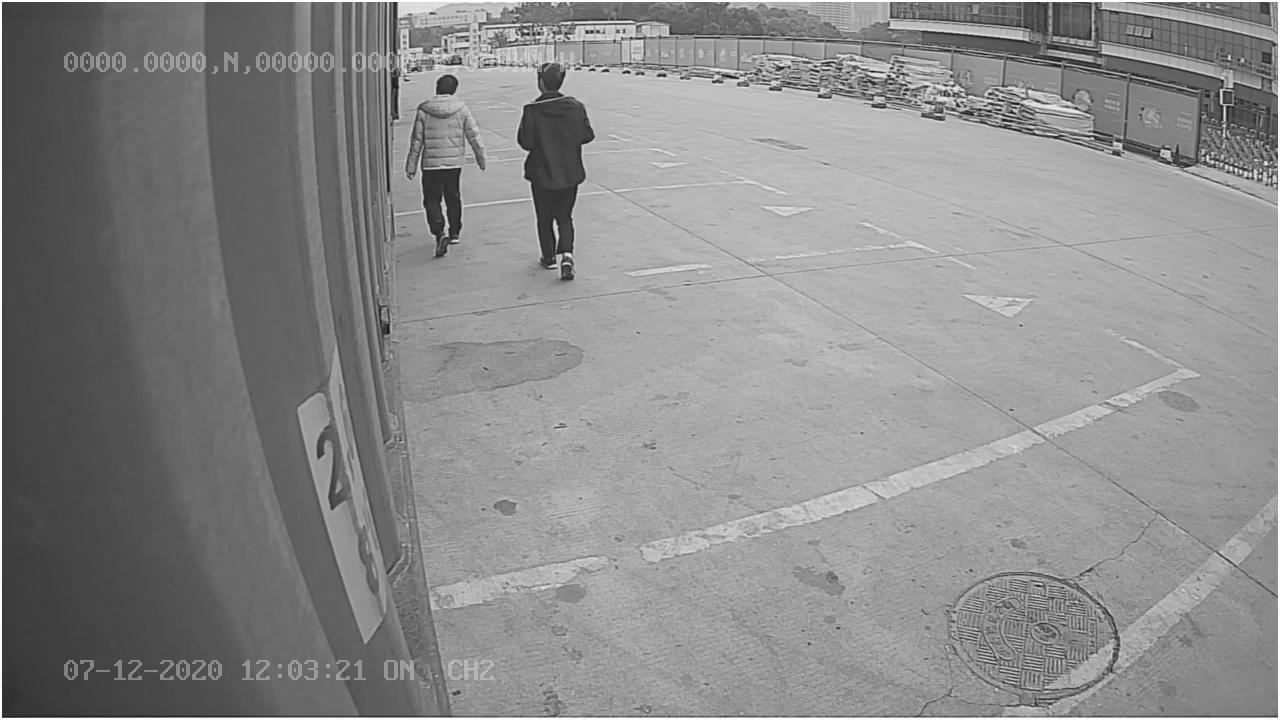person: (516, 60, 597, 284)
